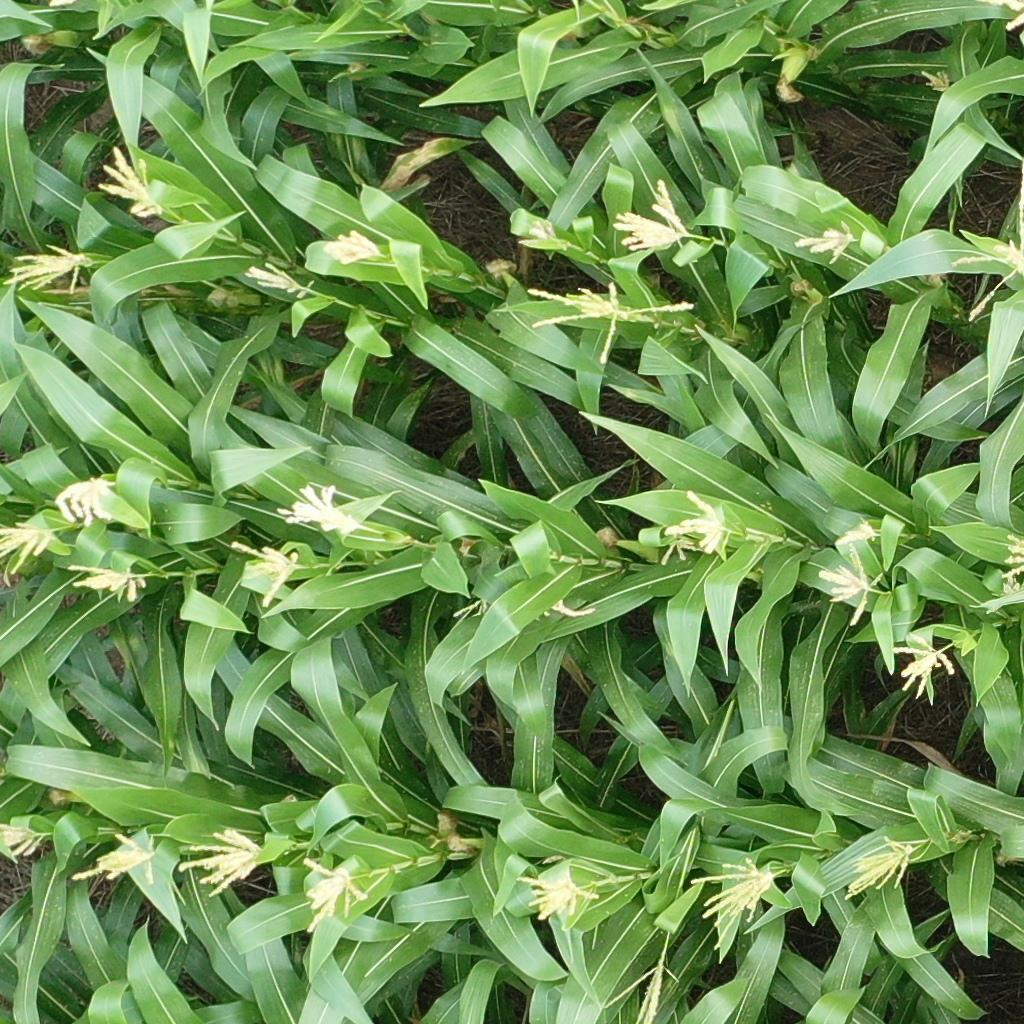Tassel: (526, 280, 695, 366), (947, 162, 1023, 322), (686, 857, 781, 960), (610, 174, 695, 259), (604, 930, 678, 1024), (177, 828, 262, 899), (299, 856, 372, 936), (815, 546, 885, 626), (93, 147, 167, 221), (71, 831, 163, 888), (229, 540, 303, 609), (277, 480, 361, 540), (3, 240, 89, 298), (887, 630, 959, 698), (842, 835, 915, 901), (662, 490, 733, 556), (516, 872, 605, 921), (51, 473, 119, 530), (68, 560, 147, 606), (791, 220, 857, 267), (1, 523, 54, 577), (324, 226, 388, 268), (244, 258, 309, 299), (3, 824, 48, 863), (995, 535, 1024, 594), (834, 517, 879, 546), (662, 538, 698, 569), (527, 218, 554, 247), (925, 69, 949, 94)
